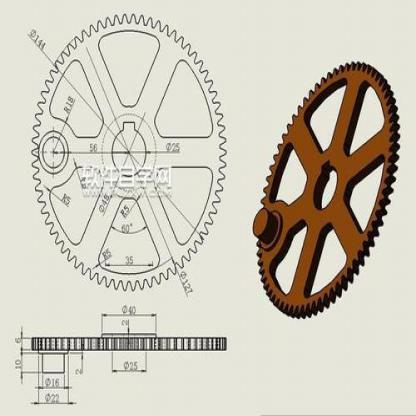FOD: (28, 10, 232, 290), (249, 57, 401, 321)
